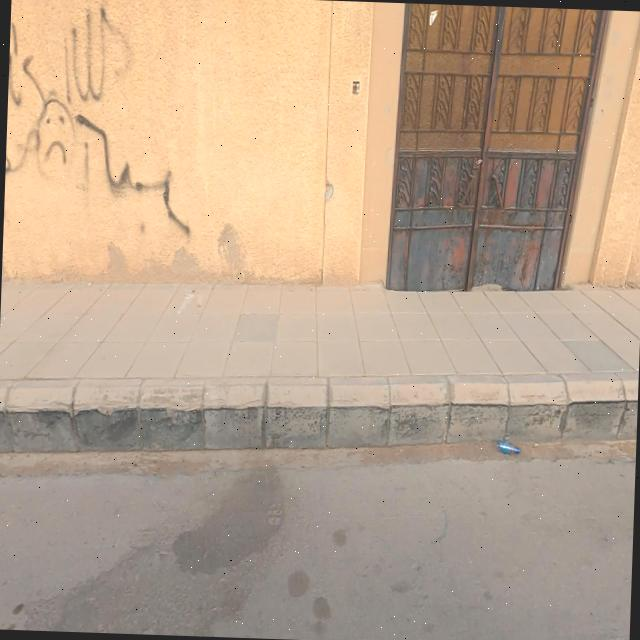Graffiti: (4, 100, 196, 238), (9, 2, 135, 104)
